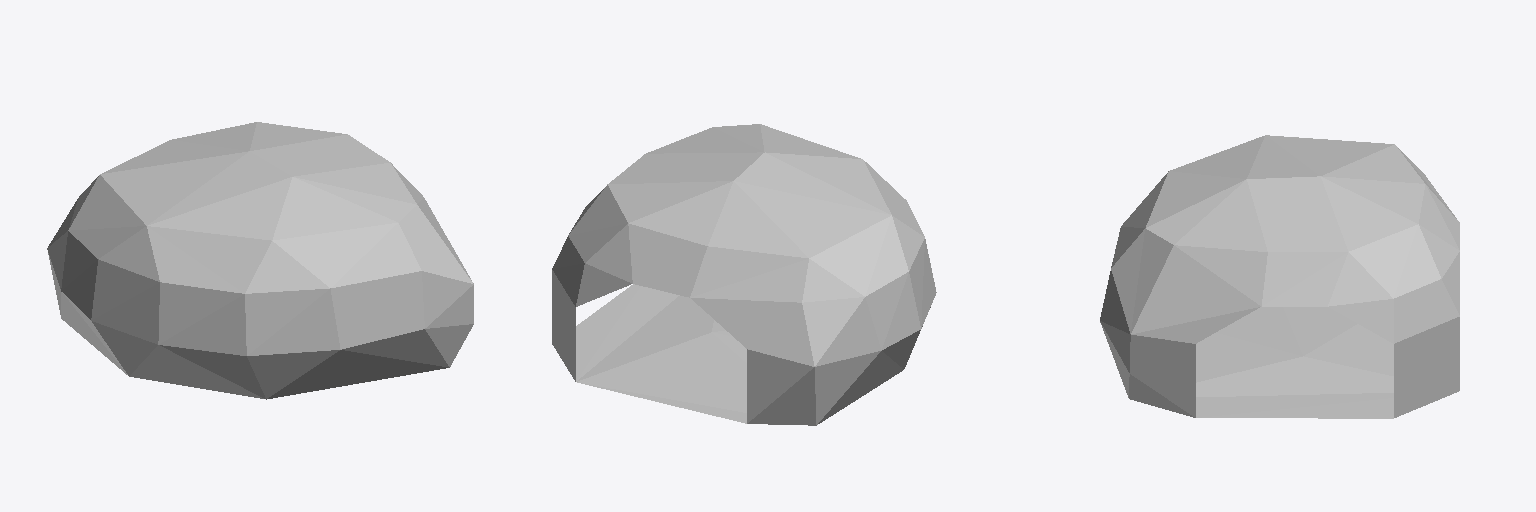
Rendered from Mesh_CavePack_RoomSquareTurn90_lod1.obj.
3 renders of one model, left to right at view 1: azimuth 30°, elevation 25°; view 2: azimuth 150°, elevation 25°; view 3: azimuth 270°, elevation 25°, orthographic.
Visible parts, largest first — view 1: Plane.002_Plane.007; view 2: Plane.002_Plane.007; view 3: Plane.002_Plane.007.
Part boxes in pixels (x1,y1,x2,y2): Plane.002_Plane.007: (47,122,473,399); Plane.002_Plane.007: (552,124,936,425); Plane.002_Plane.007: (1100,135,1459,418).
Bounding box in the file's own units: 17.81 × 9.26 × 17.48.